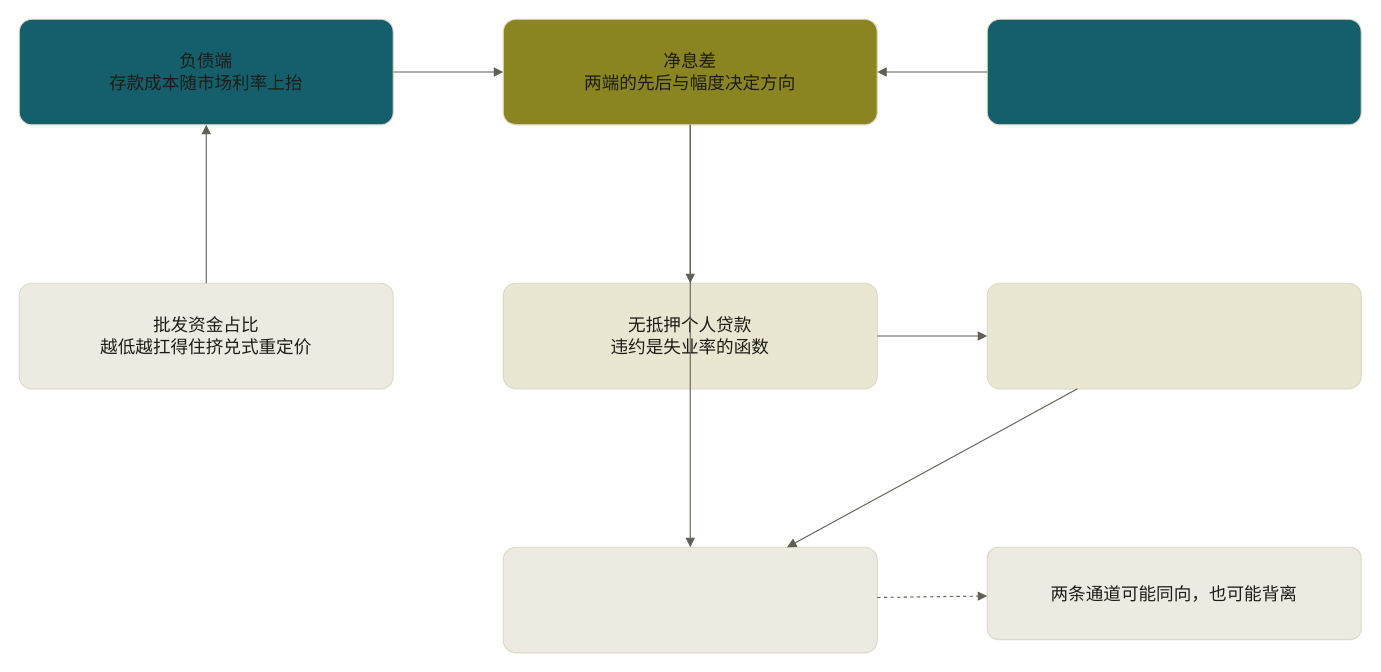
Image size: 1381x672. Some labels were removed from this diagram. The box of each missing label's shape, as (x1, y1, x2, y2) in pixels:
估值 折现率与违约预期同时收紧: (502, 546, 877, 653)
拨备与冲销 加息后期才显形: (986, 282, 1361, 389)
资产端 贷款重定价更快: (986, 18, 1361, 125)
